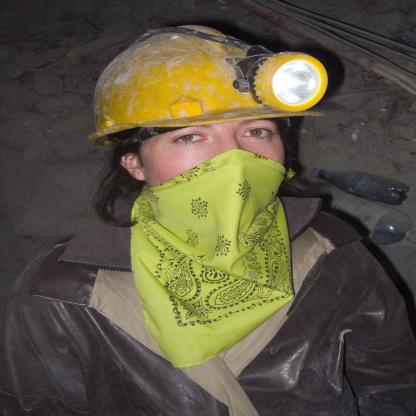Helmet: (112, 32, 322, 151)
